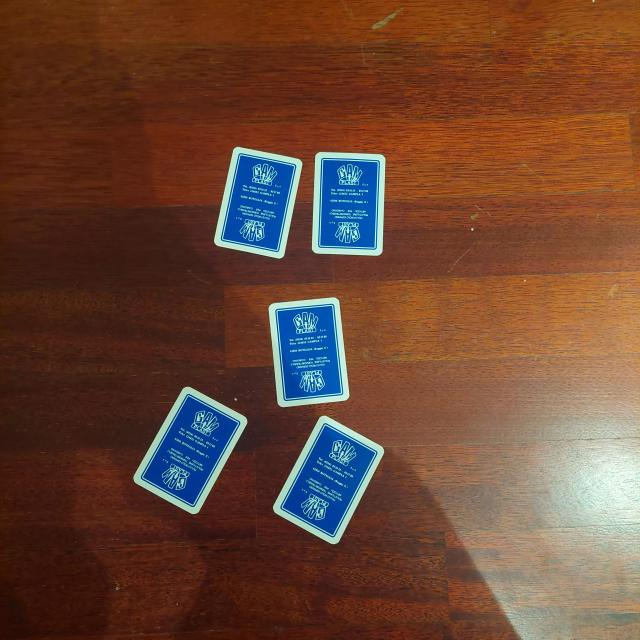card: (132, 385, 248, 516), (270, 416, 386, 546), (215, 145, 302, 259), (267, 295, 353, 409), (311, 148, 386, 258)
